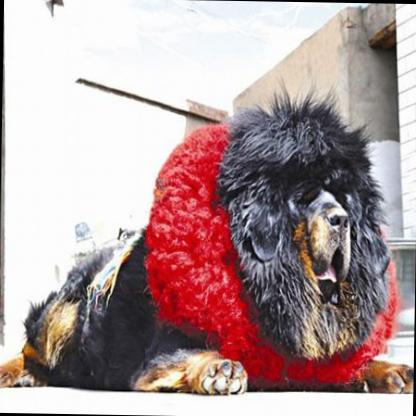Tibetan_mastiff: (0, 73, 416, 398)
